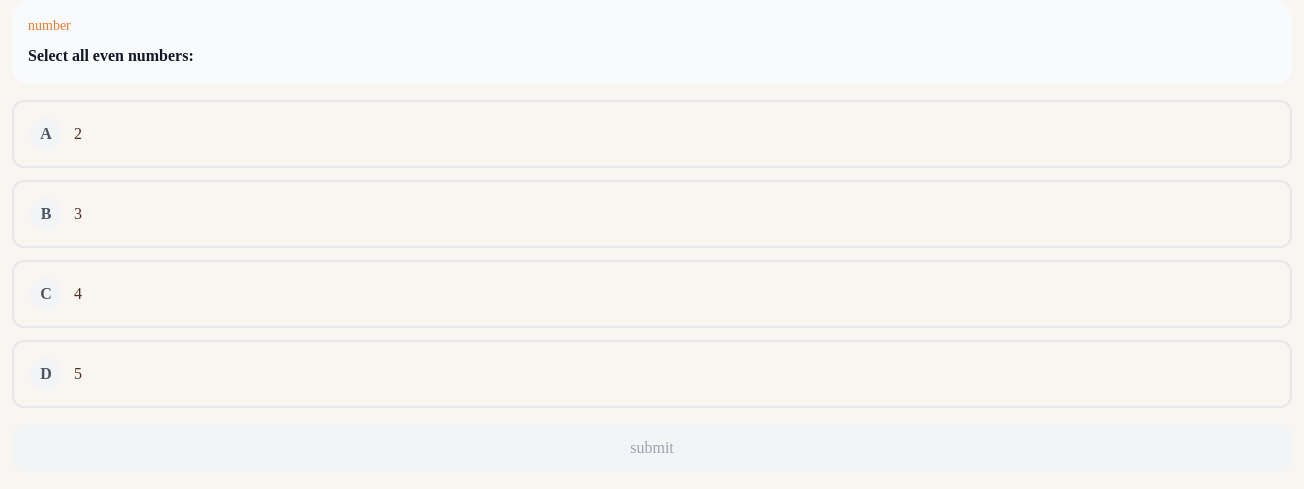
Test: ChoiceQuestion › Multiple Choice Selection › enables submit button when options are selected
Click the text "2" at (78, 134), box [74,125,82,142]
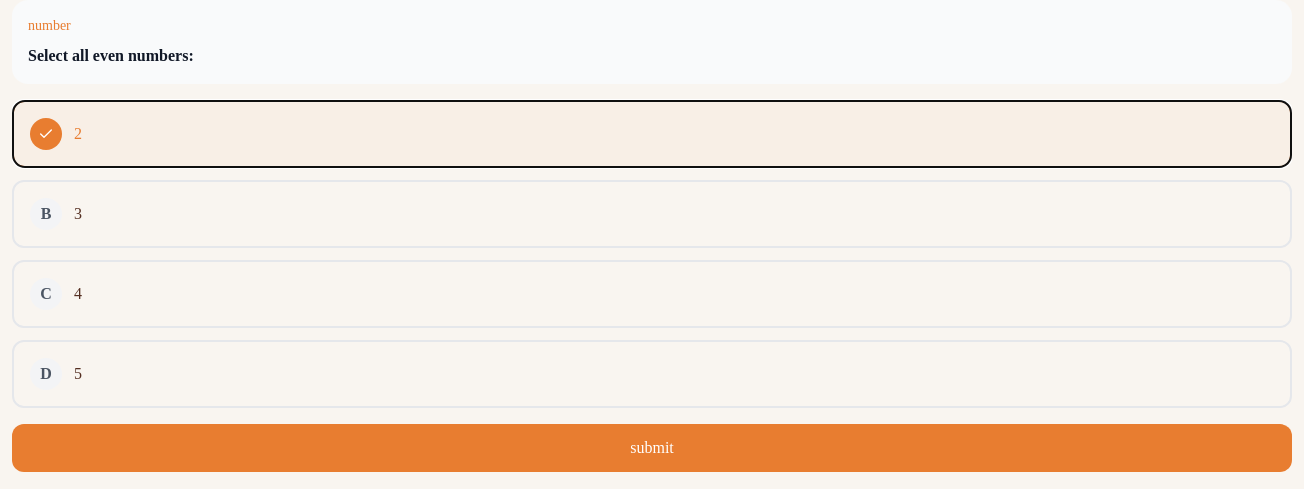
Expected: the button "submit" is enabled, [12,424,1292,472]
